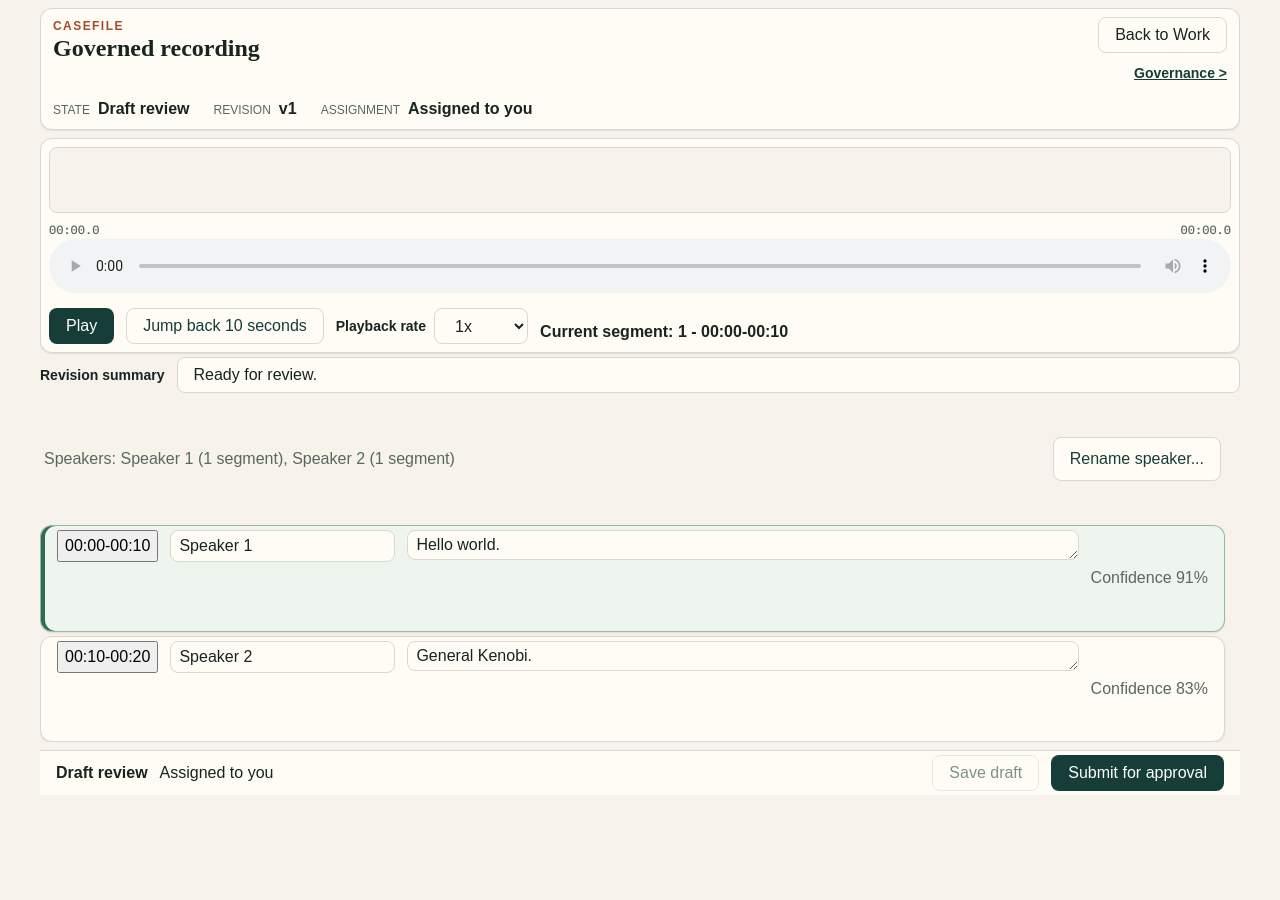
Scenario: CasefileWorkspace › registers beforeunload only while dirty and saves with retained focus
The width and height of the screenshot is (1280, 900).
Type " Updated" into the text box named "Transcript for segment 1, 00:00-00:10" at (743,545), box [407,530,1079,560]
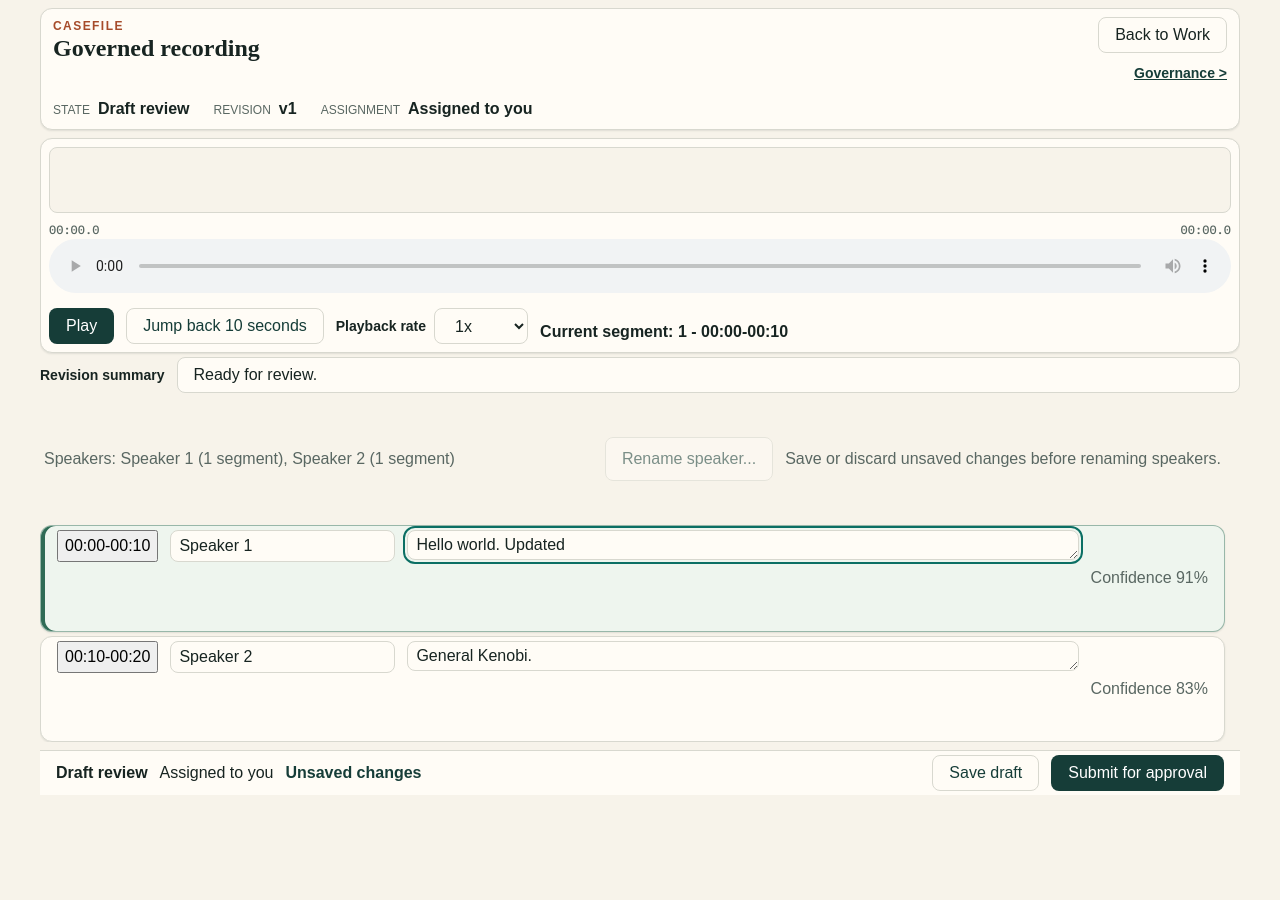
Click the button "Save draft" at (986,773), box [932,755,1039,791]
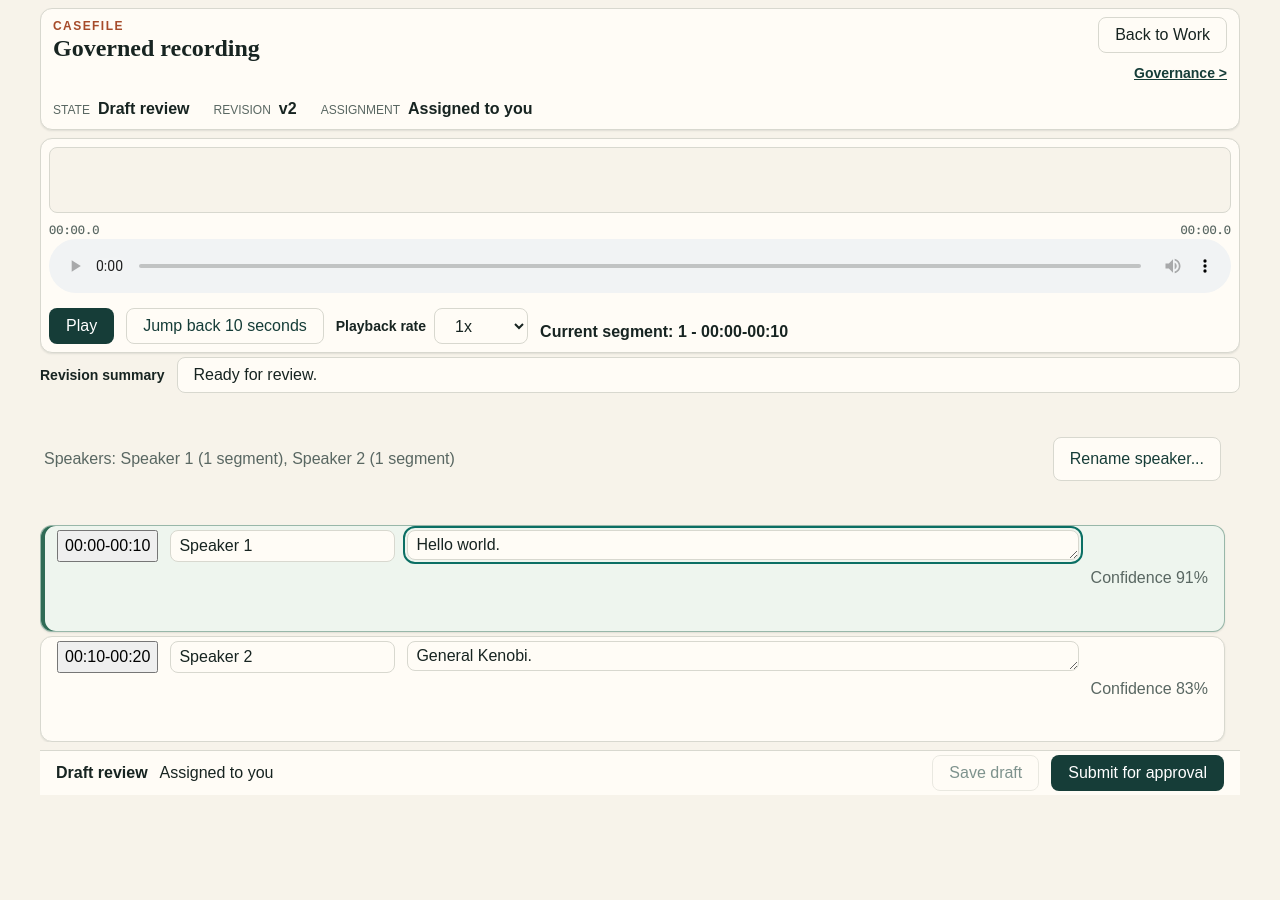
Now the text "v2" is shown, box [279,97,297,121]
